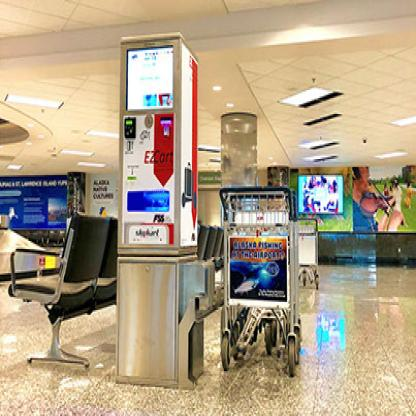airport-trolley: (214, 182, 306, 380)
